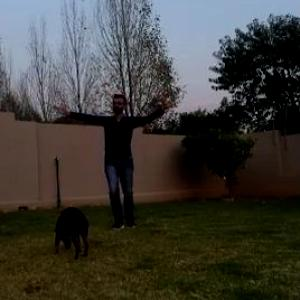takeoff: (45, 73, 173, 236)
